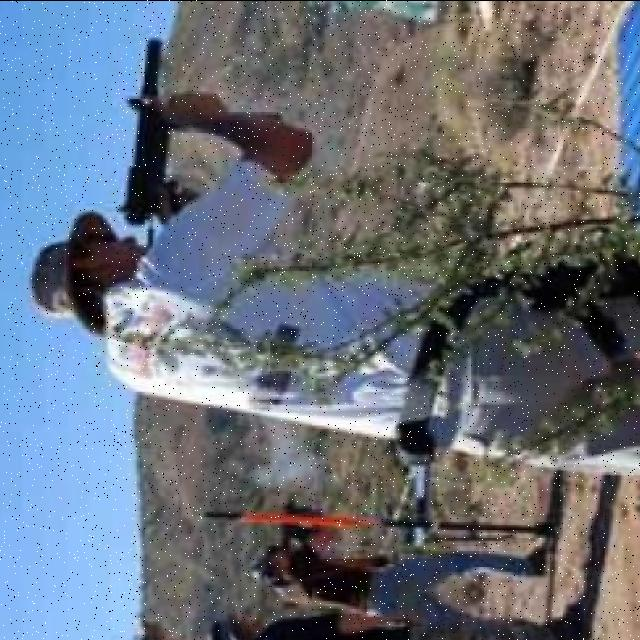Rifle: (113, 42, 280, 224)
